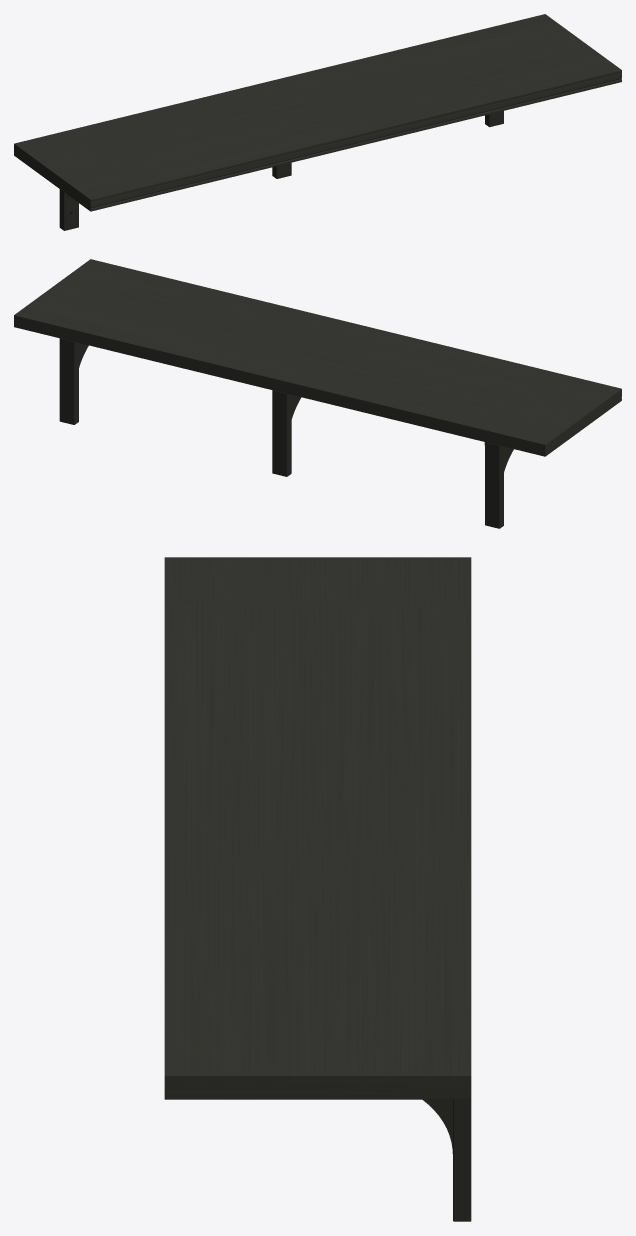
The model's file is wall_shelf.glb.
3 views of the same model, one above another, from view 1: azimuth 30°, elevation 25°; view 2: azimuth 150°, elevation 25°; view 3: azimuth 270°, elevation 25° (orthographic). The views are drawn at different scales.
Parts seen in each view (by area): view 1: Shelf_Board_120x30cm, Bracket_01_Wall_Plate; view 2: Shelf_Board_120x30cm, Bracket_02_Wall_Plate, Bracket_03_Wall_Plate, Bracket_01_Wall_Plate; view 3: Shelf_Board_120x30cm, Bracket_03_Wall_Plate.
Part boxes in pixels (left/top/right/bottom): Shelf_Board_120x30cm: left=14, top=14, right=621, bottom=211; Bracket_01_Wall_Plate: left=59, top=189, right=78, bottom=230; Shelf_Board_120x30cm: left=14, top=259, right=621, bottom=456; Bracket_02_Wall_Plate: left=272, top=391, right=291, bottom=476; Bracket_03_Wall_Plate: left=59, top=342, right=78, bottom=424; Bracket_01_Wall_Plate: left=485, top=443, right=503, bottom=528; Shelf_Board_120x30cm: left=164, top=557, right=471, bottom=1099; Bracket_03_Wall_Plate: left=453, top=1099, right=471, bottom=1221.
Bounding box in the file's own units: 1.2 × 0.206 × 0.3.
Materials: 3 (2 with a texture image).
